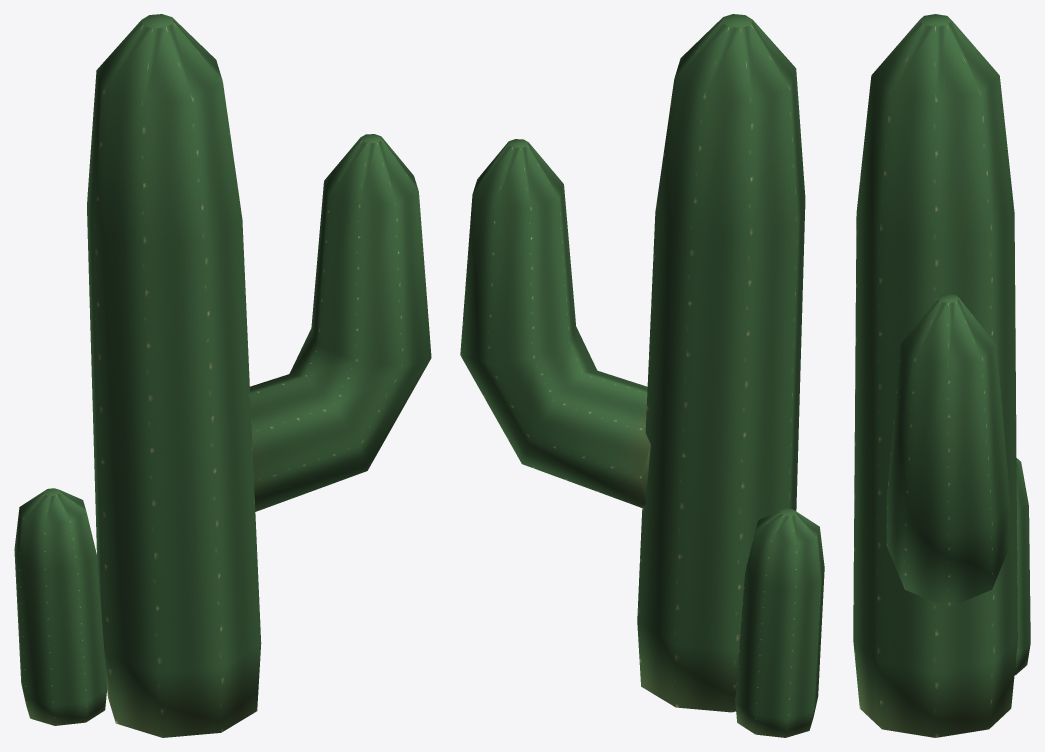
The model's file is Cactus Young LOD.fbx.
3 renders of one model, left to right at view 1: azimuth 30°, elevation 25°; view 2: azimuth 150°, elevation 25°; view 3: azimuth 270°, elevation 25°, orthographic. The views are drawn at different scales.
Visible parts, largest first — view 1: Cactus Young LOD; view 2: Cactus Young LOD; view 3: Cactus Young LOD.
Part boxes in pixels (x1=…): Cactus Young LOD: x1=14, y1=14, x2=431, y2=737; Cactus Young LOD: x1=460, y1=14, x2=824, y2=737; Cactus Young LOD: x1=853, y1=14, x2=1030, y2=737.
Size of the model in its own units: 85.07 by 146 by 34.5.
